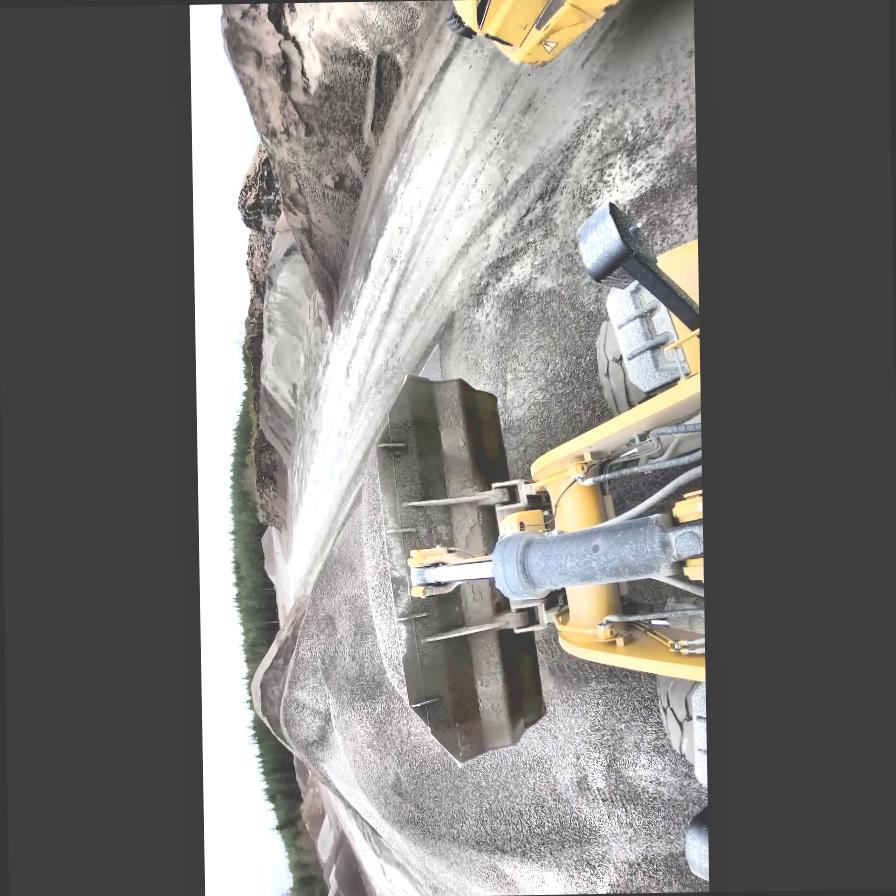anchor: (405, 544, 492, 600)
pile of gravel: (241, 341, 465, 896), (215, 1, 439, 320), (247, 589, 397, 896), (292, 759, 375, 896), (256, 267, 312, 445), (246, 597, 307, 759), (322, 833, 371, 896), (295, 757, 328, 844), (260, 526, 278, 592)
